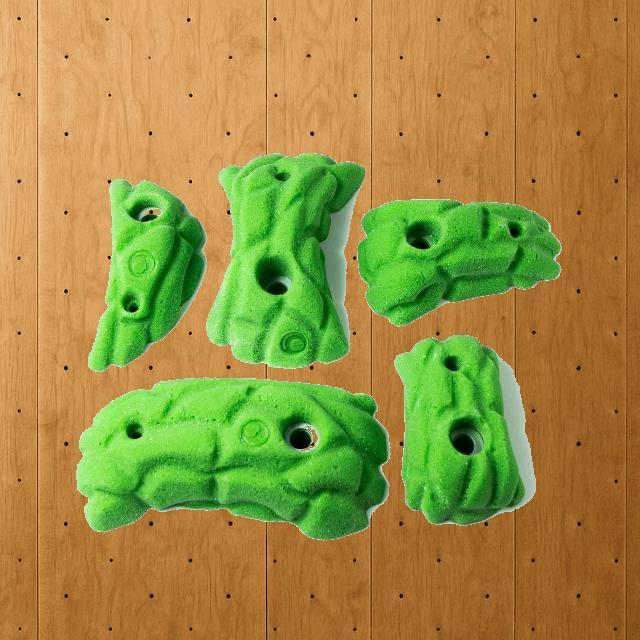Pinch: (74, 376, 388, 540), (204, 150, 362, 368), (393, 332, 547, 526), (356, 197, 562, 327), (84, 176, 206, 370)
